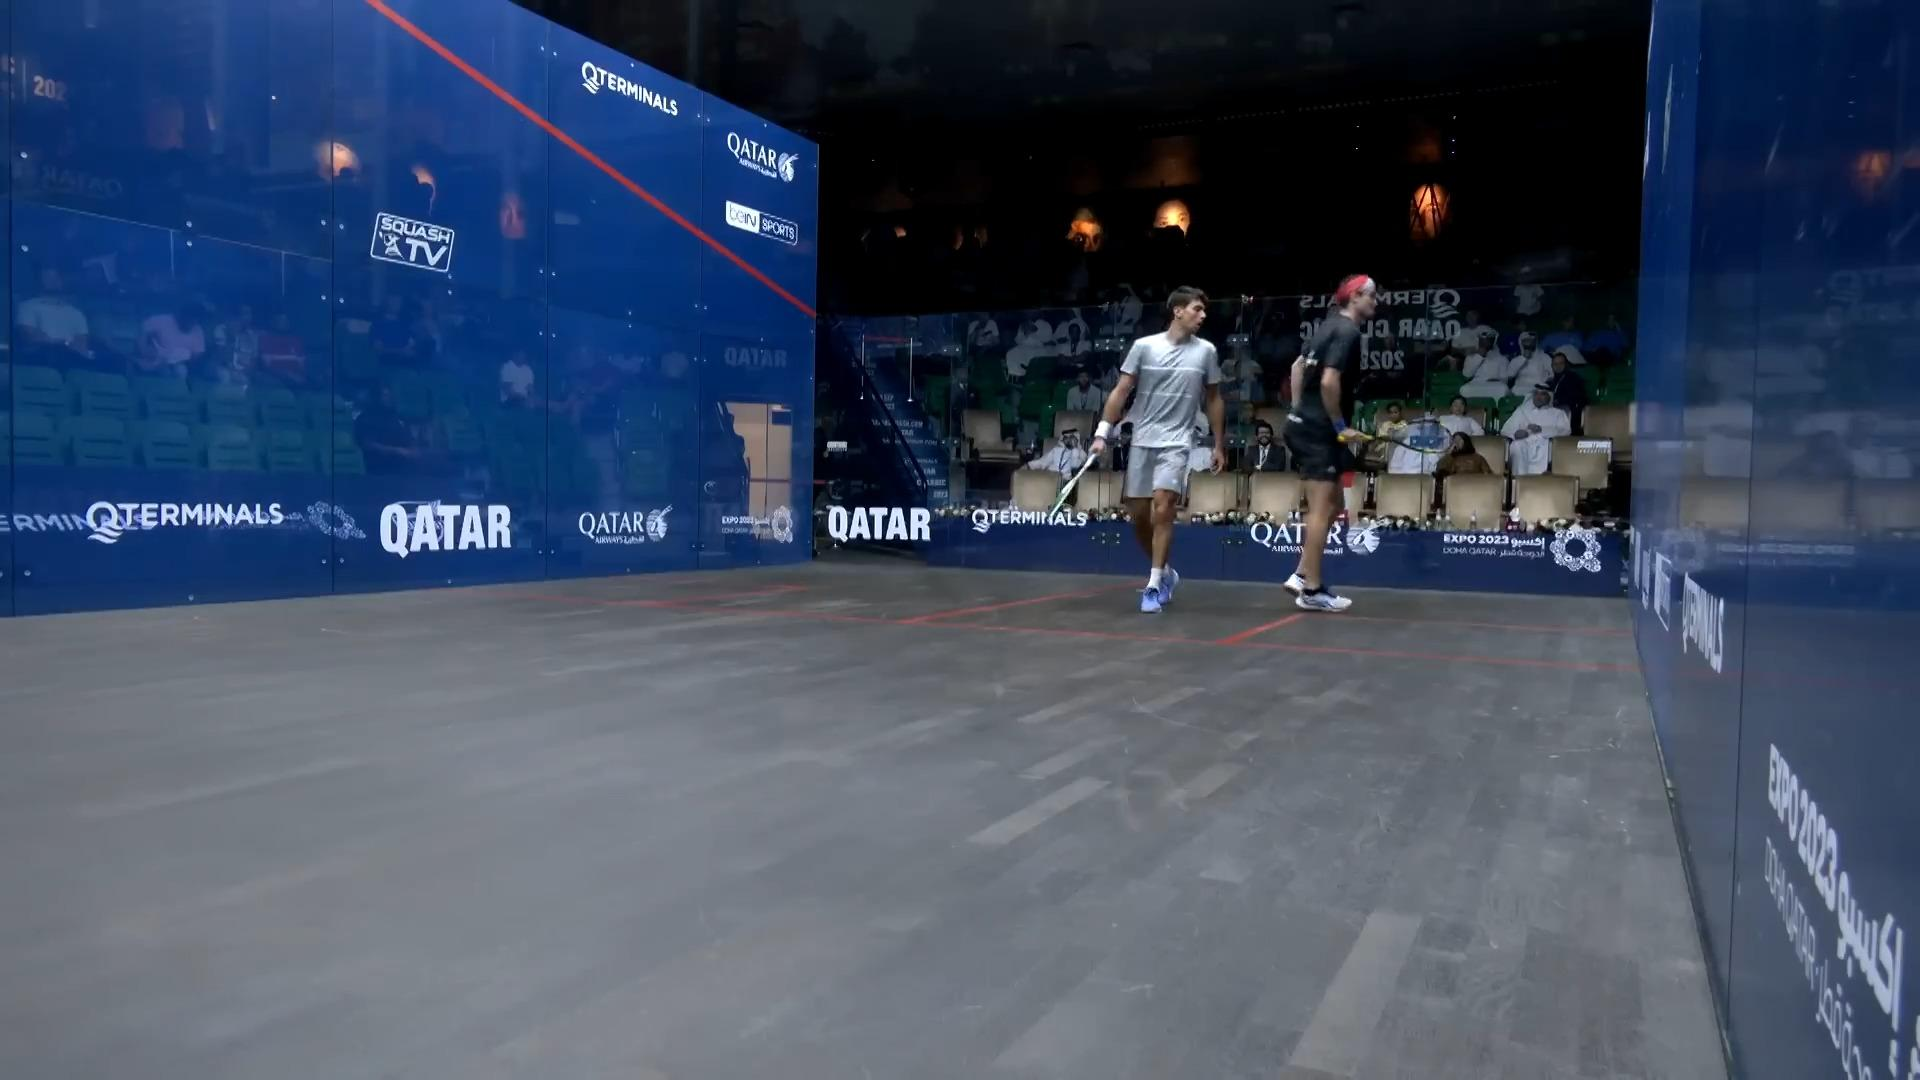Racket: (1366, 414, 1461, 465)
